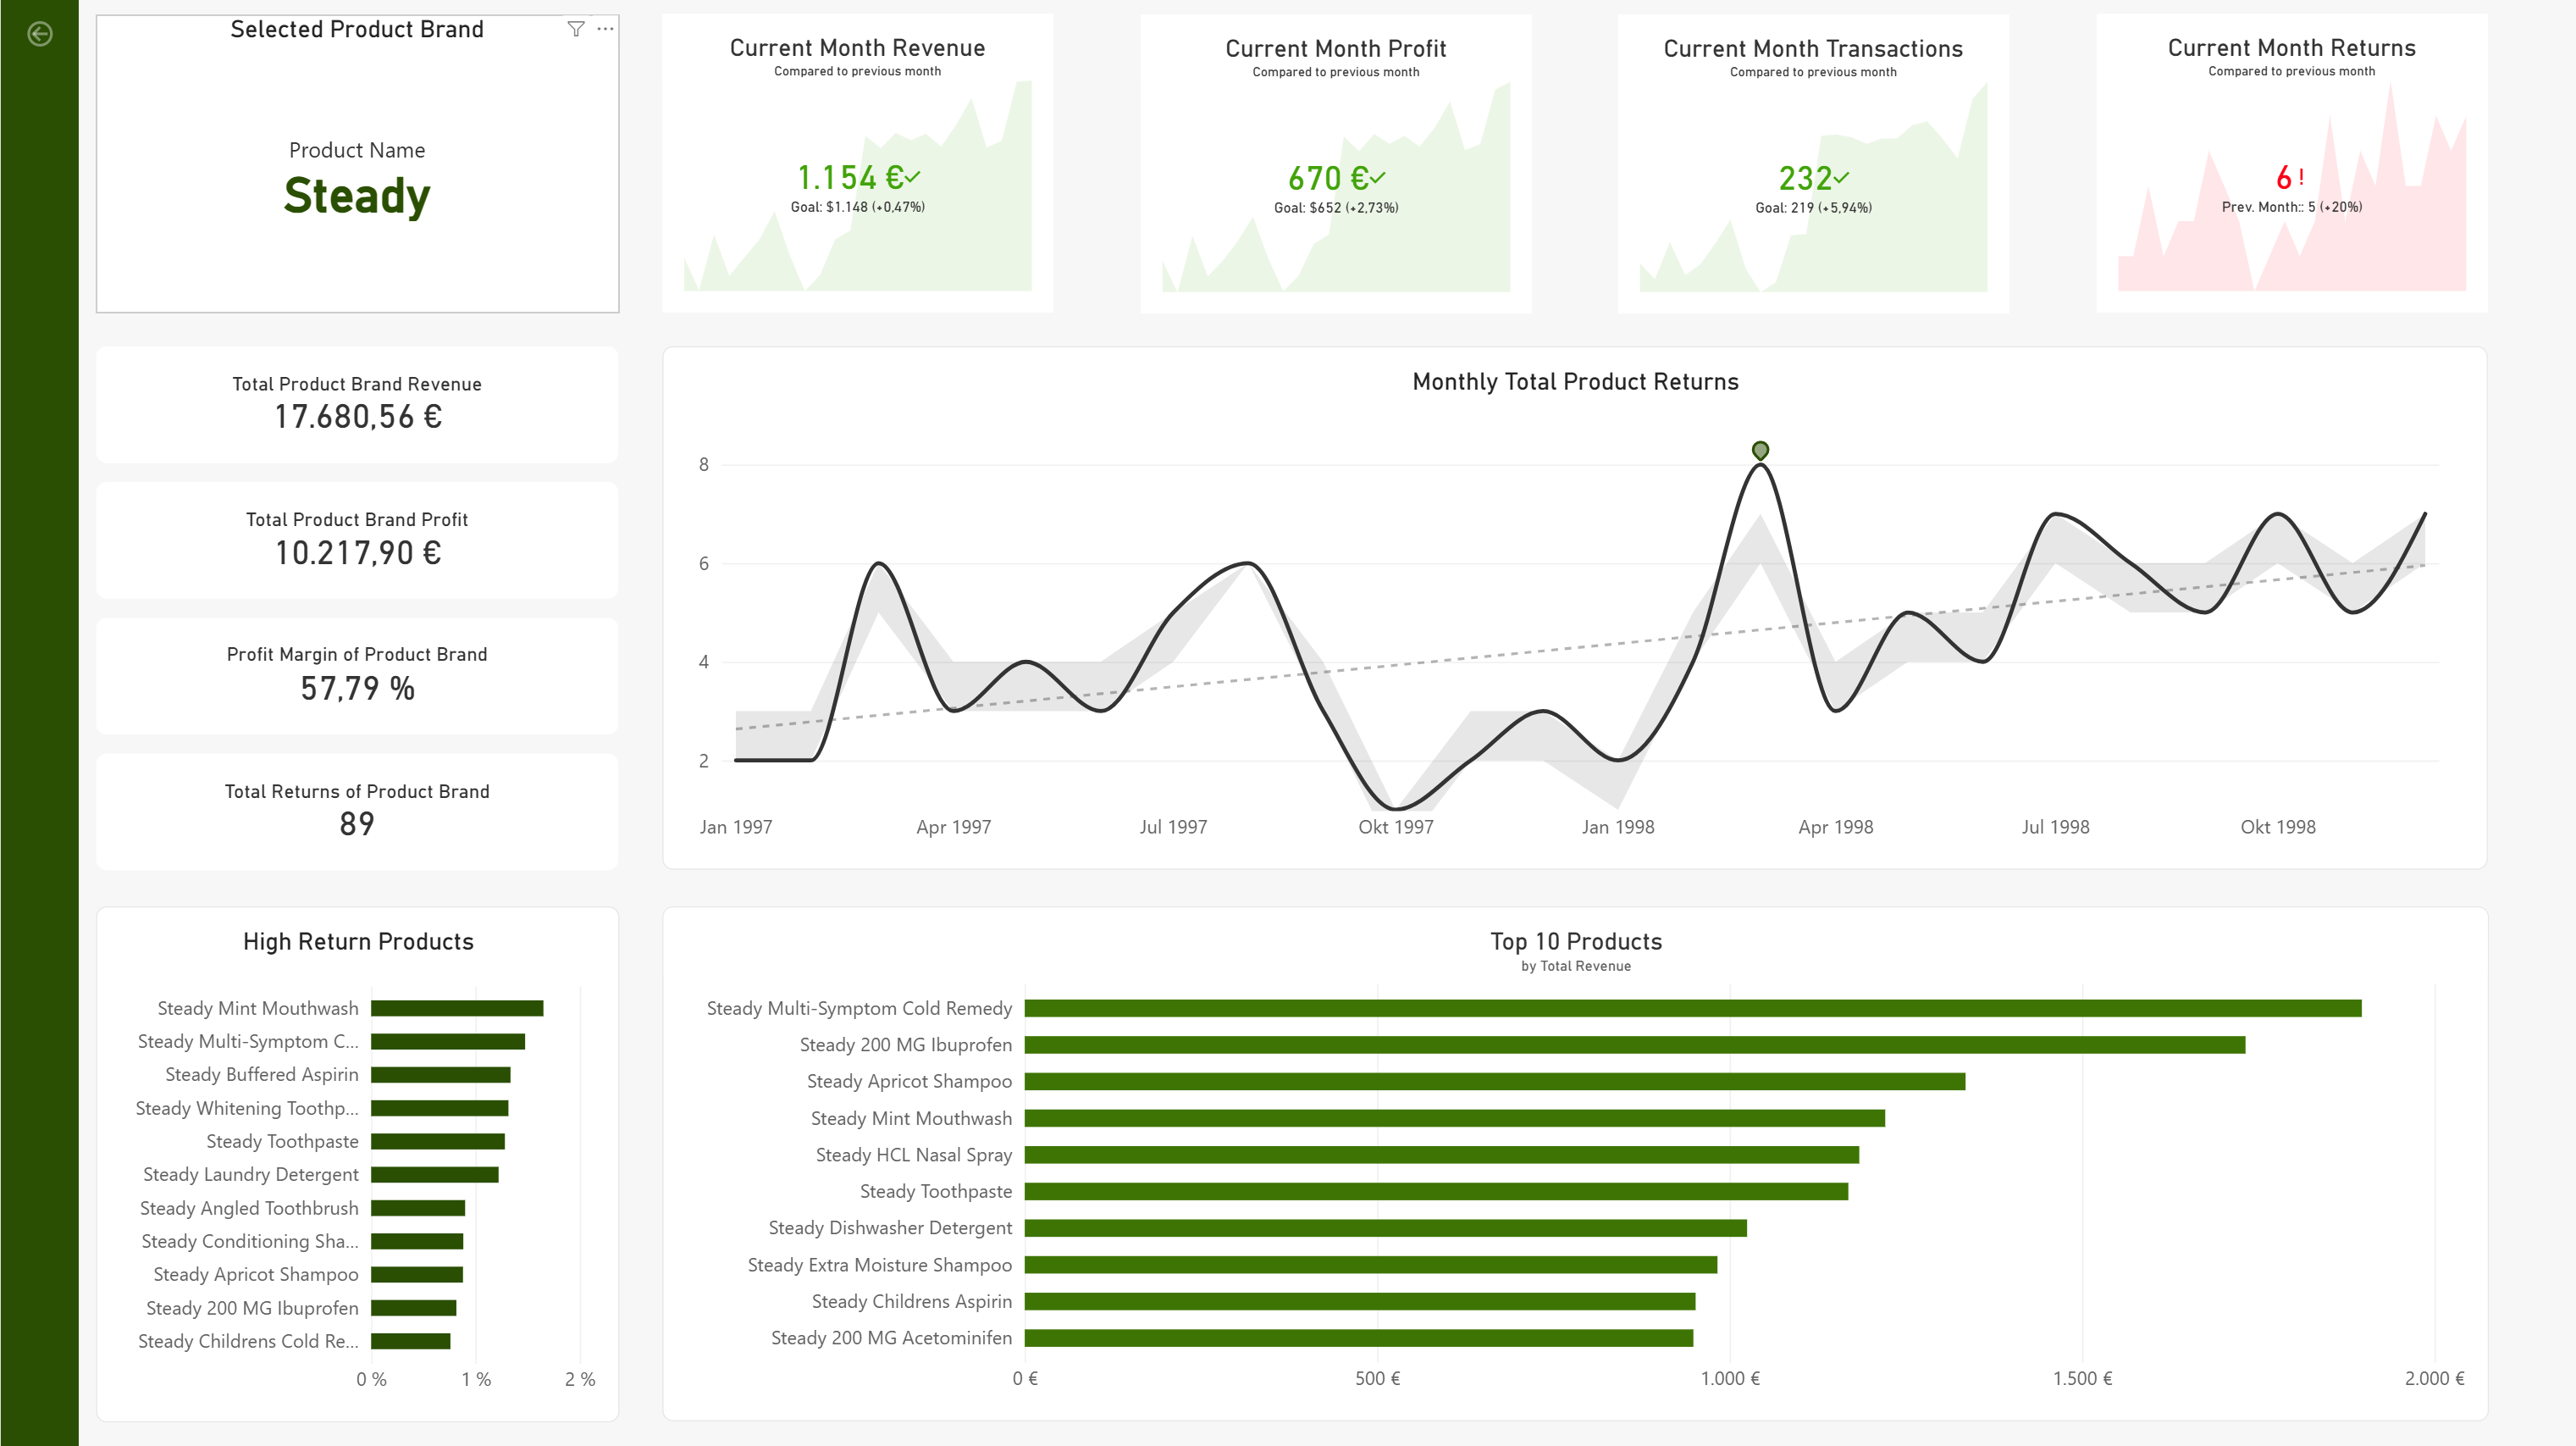

The dashboard page shown, as its layout file describes it:
{"tool":"powerbi","page":{"name":"Product Brand Detail","canvas":[1920,1080],"ordinal":1},"visuals":[{"type":"shape","box":[0,0,58,1080],"z":0},{"type":"actionButton","box":[0,0,58,50],"z":1000},{"type":"kpi","title":"Current Month Revenue","fields":{"Goal":["Measure Table.Last Month Revenue"],"Indicator":["Measure Table.Total Revenue"],"TrendLine":["Calendar.Start of Month"]},"box":[492.9,10.2,291.2,222.2],"z":2000},{"type":"kpi","title":"Current Month Profit","fields":{"Goal":["Measure Table.Last Month Profit"],"Indicator":["Measure Table.Total Profit"],"TrendLine":["Calendar.Start of Month"]},"box":[848.8,11.1,291.2,222.2],"z":3000},{"type":"kpi","title":"Current Month Transactions","fields":{"Goal":["Measure Table.Last Month Transactions"],"Indicator":["Measure Table.Total Transactions"],"TrendLine":["Calendar.Start of Month"]},"box":[1204.7,11.1,291.2,222.2],"z":4000},{"type":"kpi","title":"Current Month Returns","fields":{"Goal":["Measure Table.Last Month Returns"],"Indicator":["Measure Table.Total Returns"],"TrendLine":["Calendar.Start of Month"]},"box":[1560.6,10.2,291.2,222.2],"z":5000},{"type":"clusteredBarChart","title":"Top 10 Products","fields":{"Category":["Products.product_name"],"Y":["Measure Table.Total Revenue"]},"box":[492.3,674.7,1359.7,383.6],"z":6000},{"type":"lineChart","title":"Monthly Total Product Returns ","fields":{"Category":["Calendar.Start of Month"],"Y":["Sum(Return_Data.quantity)"]},"box":[492.8,257.5,1358.9,389.8],"z":7000},{"type":"cardVisual","fields":{"Data":["Measure Table.Total Revenue","Measure Table.Total Profit","Measure Table.Profit Margin","Measure Table.Total Returns"]},"box":[70.9,257.7,389.4,390.1],"z":8000},{"type":"barChart","title":"High Return Products","fields":{"Category":["Products.product_name"],"Y":["Measure Table.Return Rate"]},"box":[70.9,674.7,389.4,383.8],"z":9000},{"type":"cardVisual","title":"Selected Product Brand","fields":{"Data":["Measure Table.Show_Productname"]},"box":[71,11.1,389,222],"z":11000}]}

Visuals, with their boxes in screenshot pixels (x1, y1, x2, y2), scaled from the page's 1920x1080 canvas onto the 2576x1446 screenshot:
shape: pyautogui.locateOnScreen(0, 0, 78, 1445)
actionButton: pyautogui.locateOnScreen(0, 0, 78, 67)
"Current Month Revenue" kpi: pyautogui.locateOnScreen(661, 14, 1052, 311)
"Current Month Profit" kpi: pyautogui.locateOnScreen(1139, 15, 1529, 313)
"Current Month Transactions" kpi: pyautogui.locateOnScreen(1617, 15, 2007, 313)
"Current Month Returns" kpi: pyautogui.locateOnScreen(2094, 14, 2485, 311)
"Top 10 Products" clusteredBarChart: pyautogui.locateOnScreen(661, 903, 2485, 1417)
"Monthly Total Product Returns " lineChart: pyautogui.locateOnScreen(661, 345, 2485, 867)
cardVisual - Measure Table.Total Revenue x Measure Table.Total Profit: pyautogui.locateOnScreen(95, 345, 617, 867)
"High Return Products" barChart: pyautogui.locateOnScreen(95, 903, 617, 1417)
"Selected Product Brand" cardVisual: pyautogui.locateOnScreen(95, 15, 617, 312)
